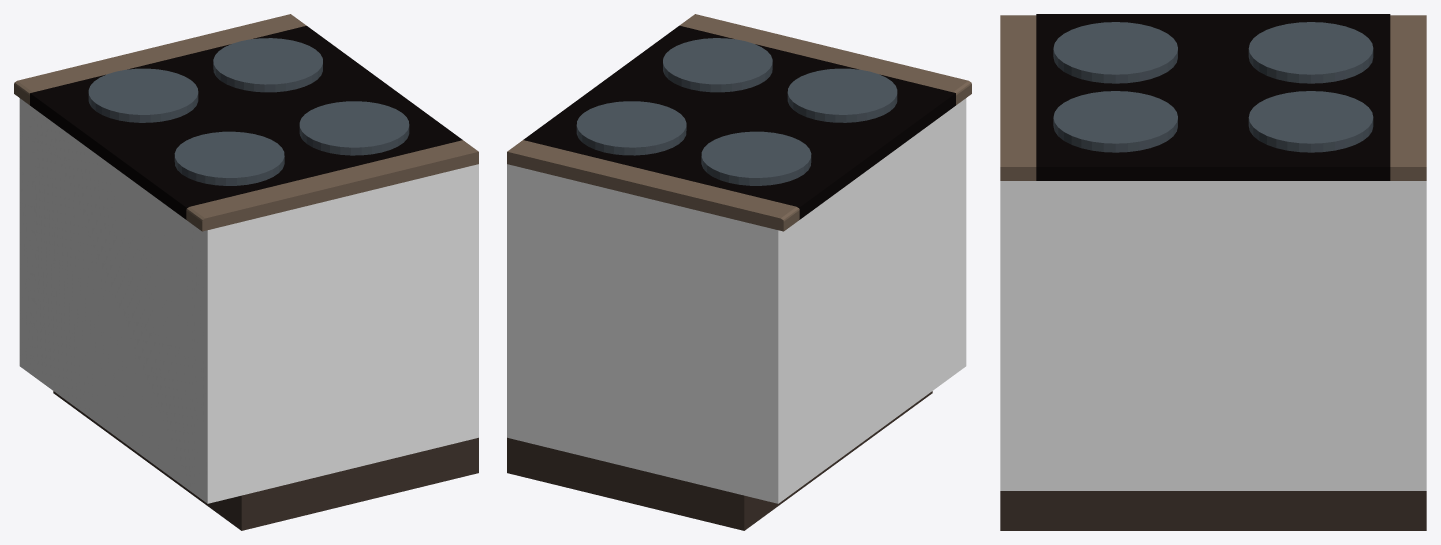
The model's file is Kookplaat.fbx.
3 views of the same model, side by side, from view 1: azimuth 30°, elevation 25°; view 2: azimuth 150°, elevation 25°; view 3: azimuth 270°, elevation 25° (orthographic). The views are drawn at different scales.
Parts seen in each view (by area): view 1: Cube; view 2: Cube; view 3: Cube.
Boxes of the visible parts, <box> form: Cube: <box>14,14,478,530</box>; Cube: <box>507,14,971,530</box>; Cube: <box>1000,14,1426,530</box>.
Size of the model in its own units: 212 by 241 by 249.
